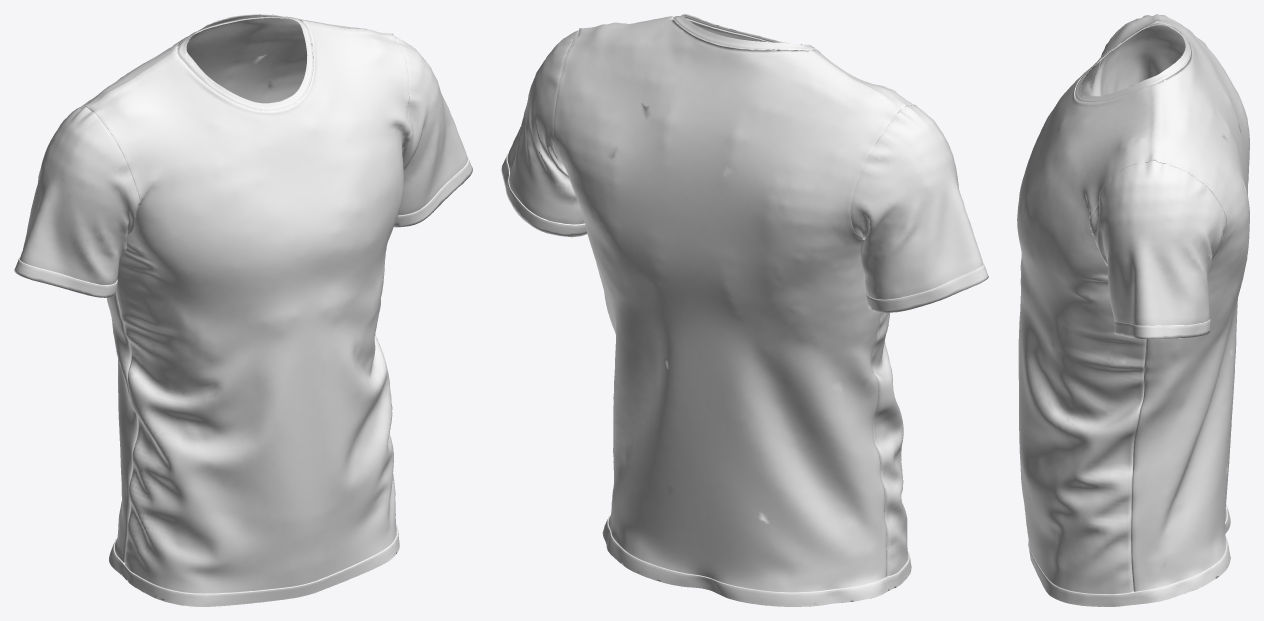
File: shirt tshirt.glb
The picture shows the model from 3 angles, left to right: view 1: azimuth 30°, elevation 25°; view 2: azimuth 150°, elevation 25°; view 3: azimuth 270°, elevation 25°; orthographic projection. The views are drawn at different scales.
Parts seen in each view (by area): view 1: T_Shirt_exterieur_ext_0_0, T_Shirt_int_int_0_1; view 2: T_Shirt_exterieur_ext_0_0, T_Shirt_int_int_0_1; view 3: T_Shirt_exterieur_ext_0_0, T_Shirt_int_int_0_1.
Boxes of the visible parts, x1,y1,x2,y2 form: T_Shirt_exterieur_ext_0_0: [14, 14, 472, 606]; T_Shirt_int_int_0_1: [16, 14, 468, 606]; T_Shirt_exterieur_ext_0_0: [501, 14, 988, 606]; T_Shirt_int_int_0_1: [505, 14, 987, 606]; T_Shirt_exterieur_ext_0_0: [1017, 14, 1249, 606]; T_Shirt_int_int_0_1: [1020, 14, 1249, 606].
Bounding box in the file's own units: 0.6395 × 0.6992 × 0.2897.
Materials: 2 (2 with a texture image).
